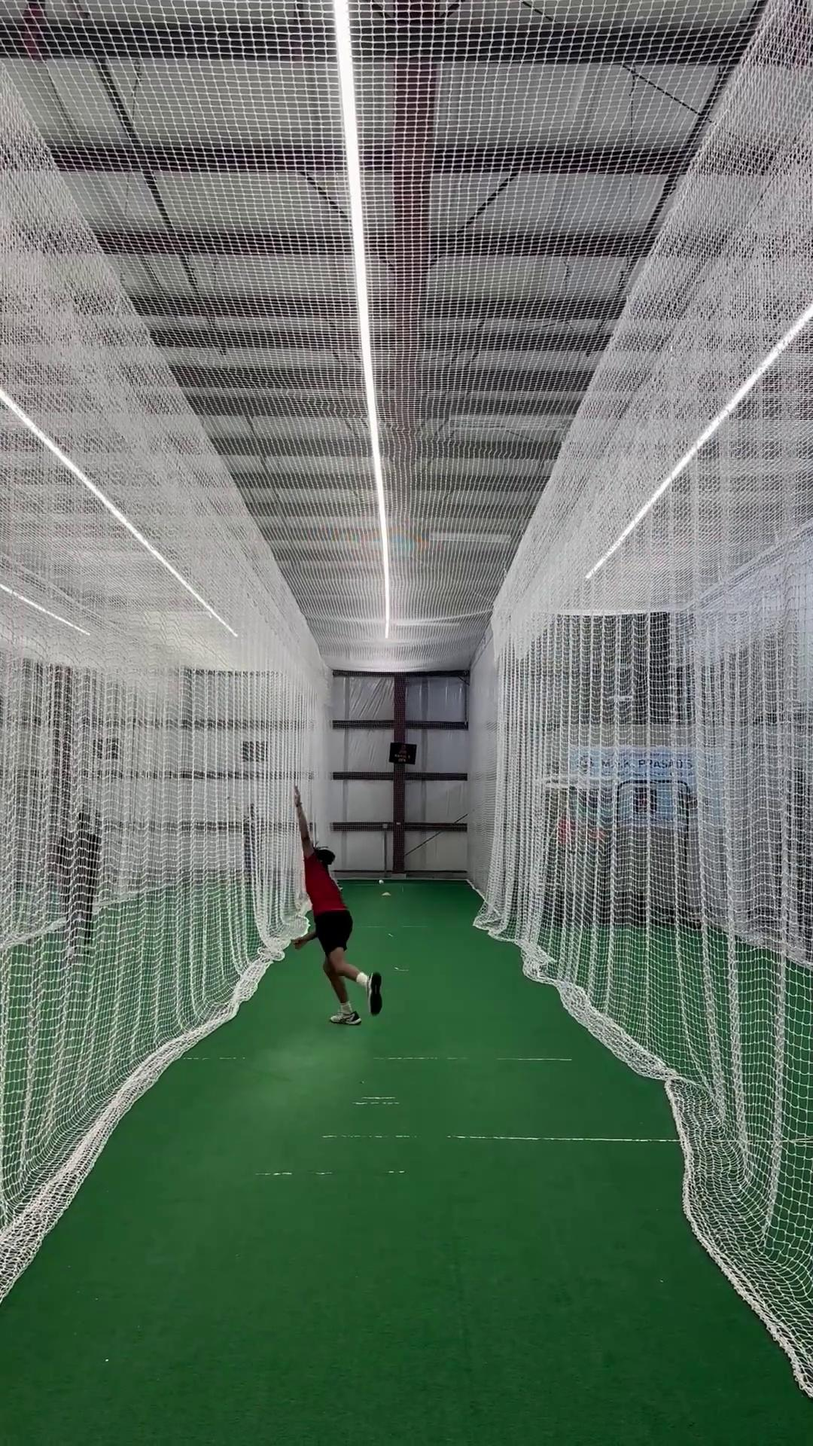ball: (375, 876, 388, 887)
